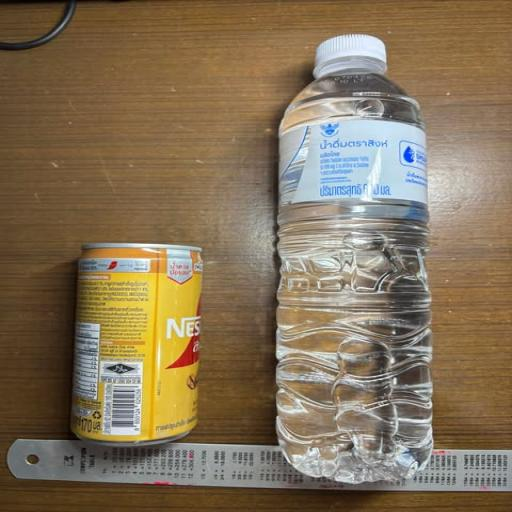bottle: (244, 22, 463, 488)
canned: (57, 218, 219, 455)
